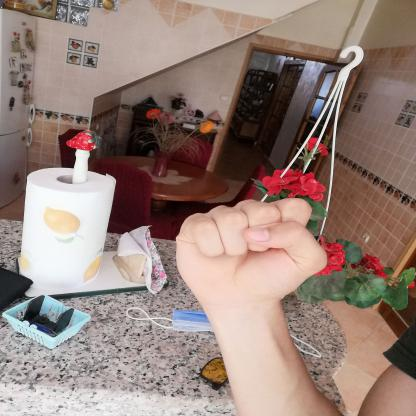SAD: (155, 184, 344, 319)
